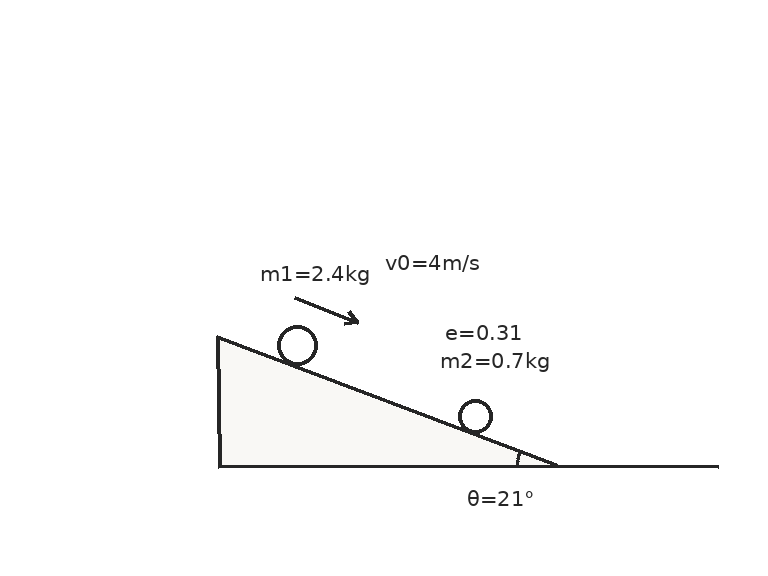ball: (275, 323, 319, 367), (456, 397, 494, 435)
ramp: (216, 334, 559, 468)
